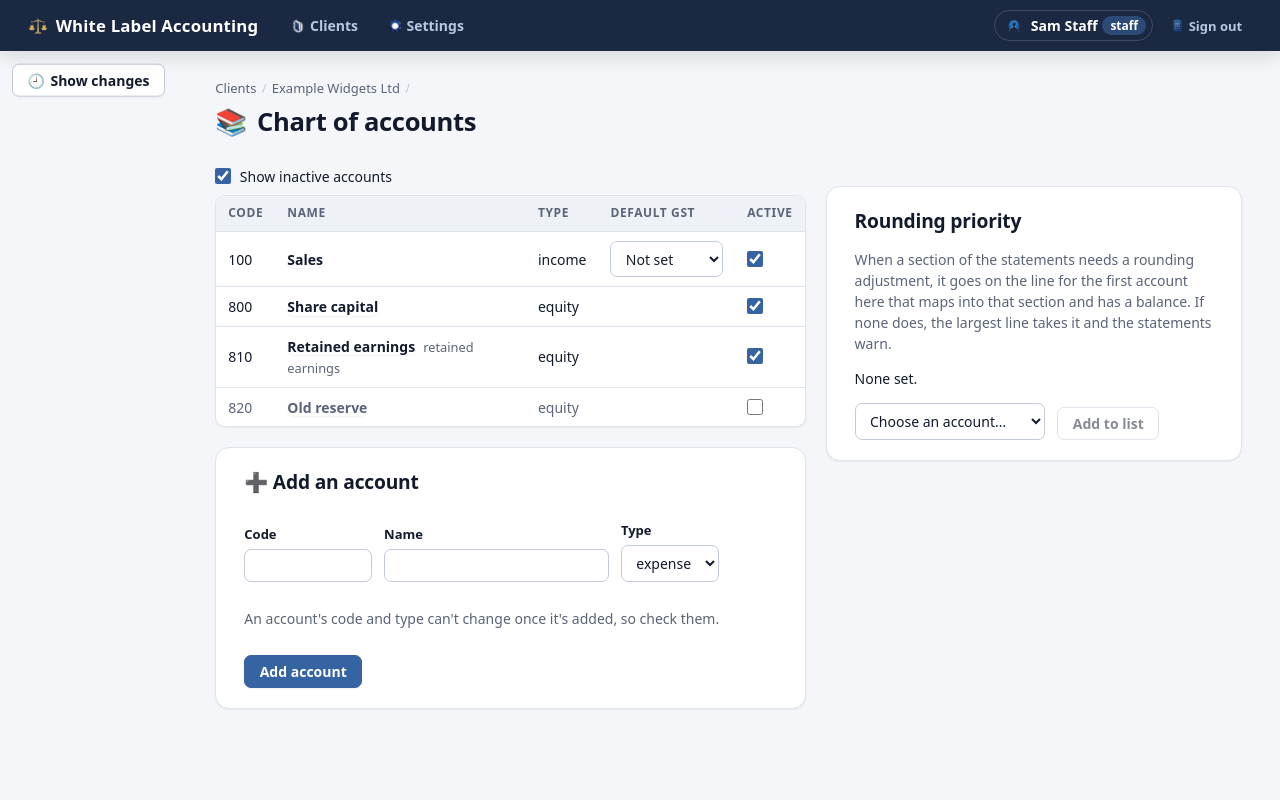
Scenario: chart page › shows why an account can't be made inactive
Click the checkbox named "810 active" at [755, 356], box [747, 348, 763, 364]
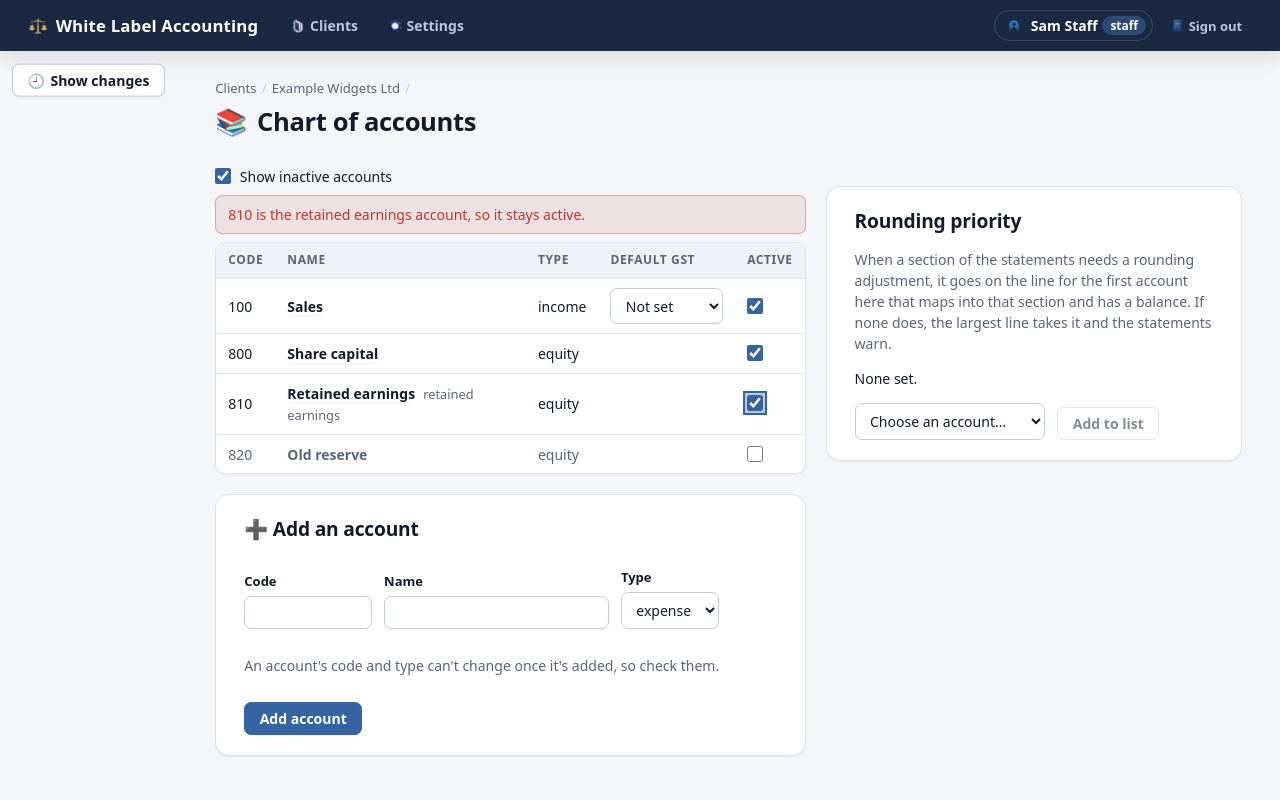
Result: the text "810 is the retained earnings account, so it stays active." is shown at [228, 205, 585, 224]
